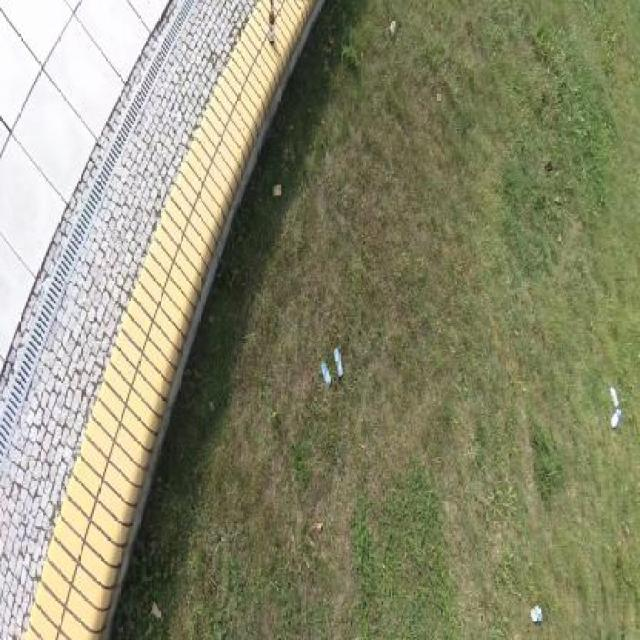Garbage: (319, 359, 331, 386), (268, 3, 275, 45), (333, 344, 342, 375), (530, 604, 542, 622), (611, 411, 620, 431), (610, 387, 618, 408), (390, 18, 396, 38)
